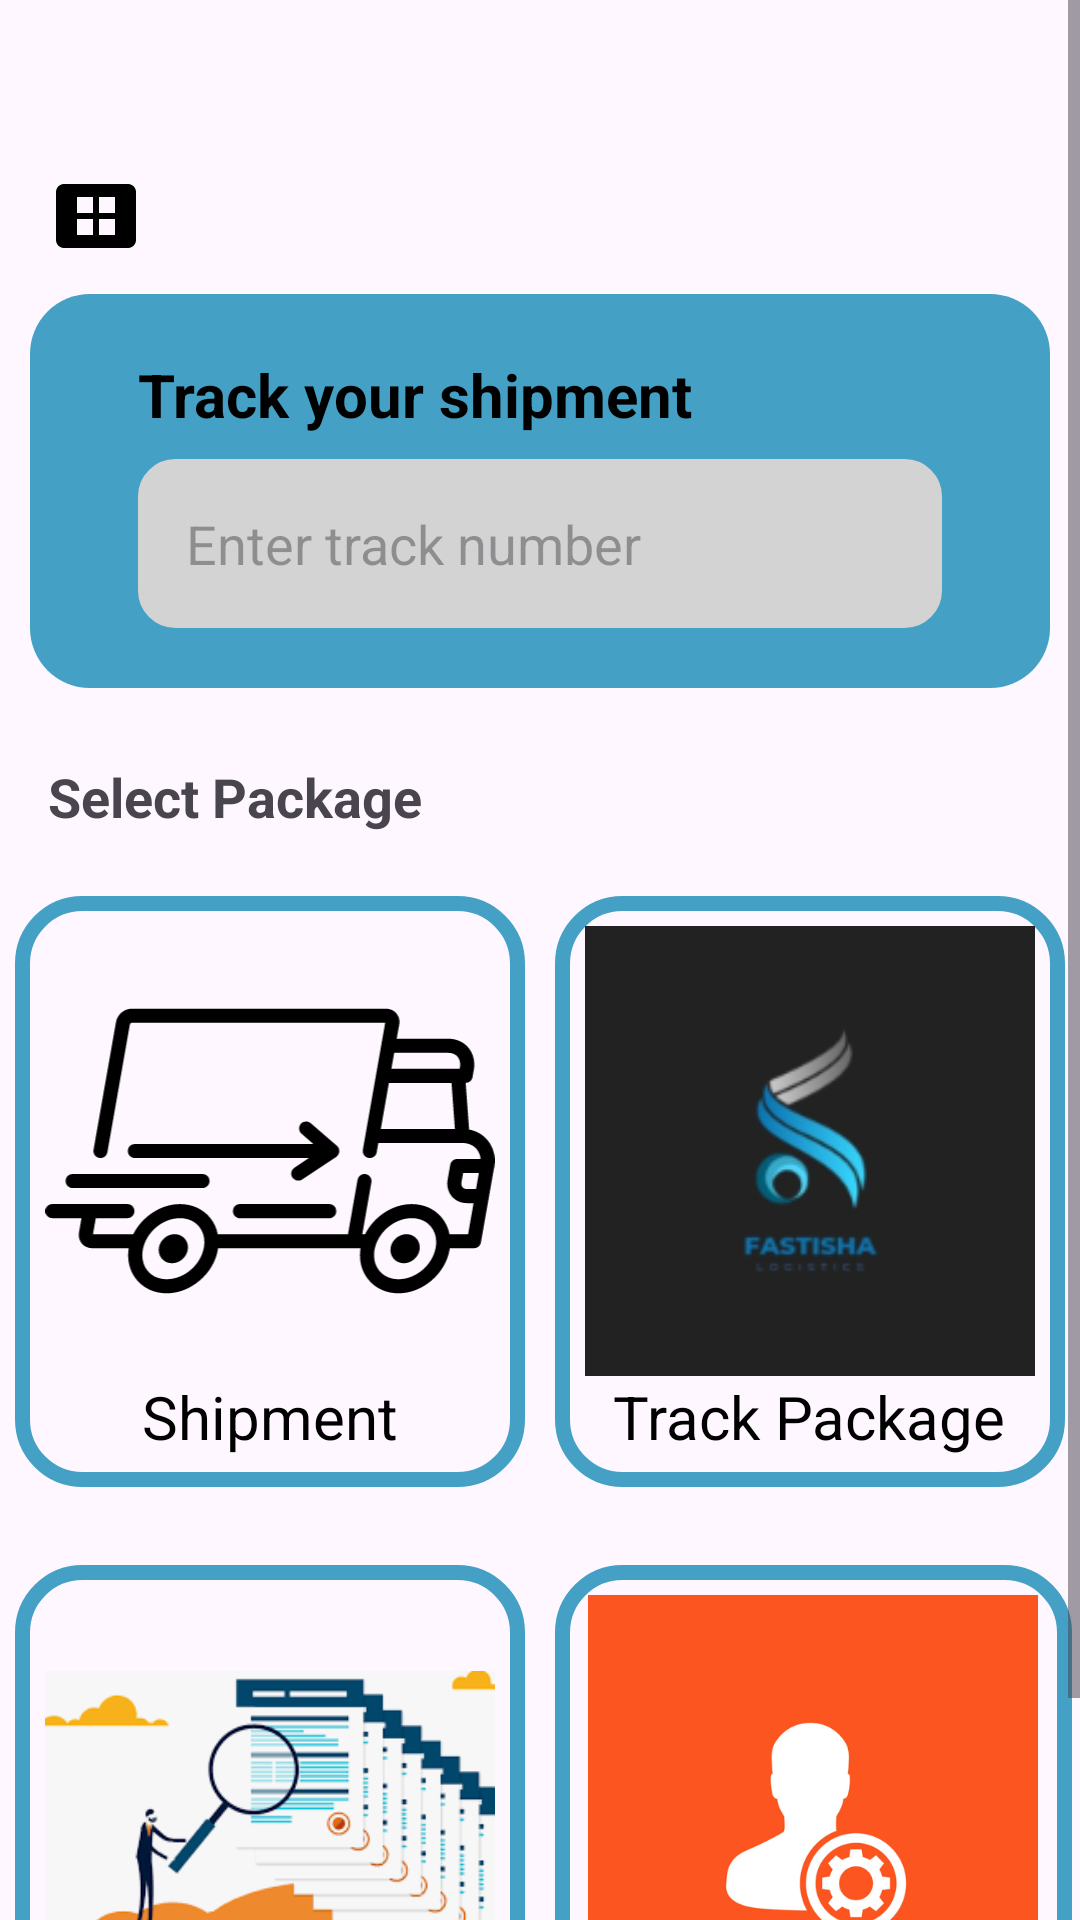

Icons on this 1080px×1920px Android screen, each with its box as rect(x1, y1, x2, y2):
Menu Icon: rect(56, 184, 136, 248)
